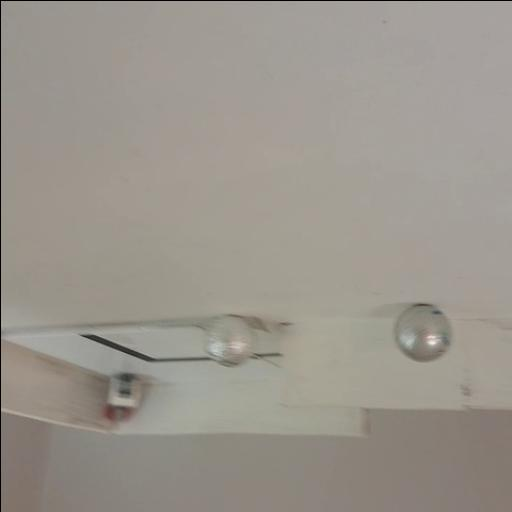alive: (392, 302, 452, 362), (200, 314, 256, 368)
